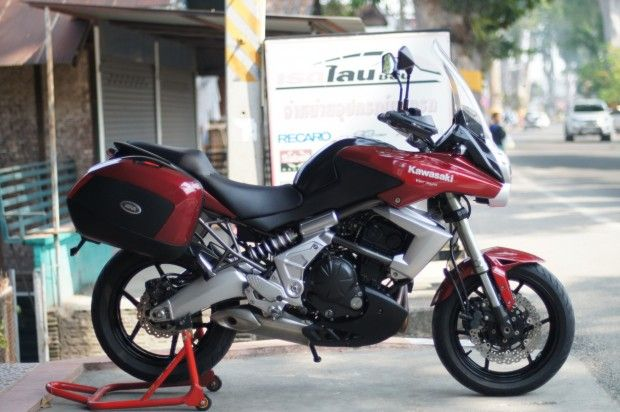motorcycle: (78, 107, 571, 396)
